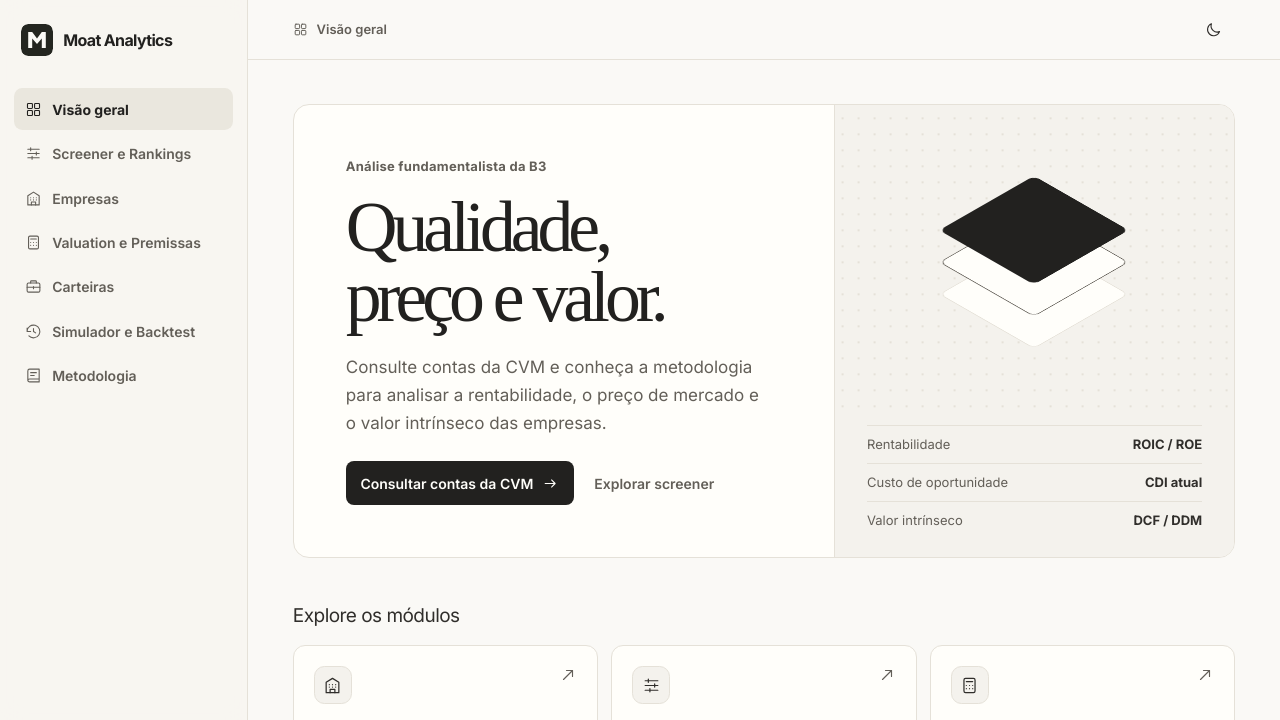
Test case: Moat Analytics › abre o screener a partir da visão geral
The width and height of the screenshot is (1280, 720).
expect the heading "Qualidade, preço e valor." is shown: met, box [346,187,664,337]
Click the link "Explorar screener" at (654, 483), box [594,475,714,492]
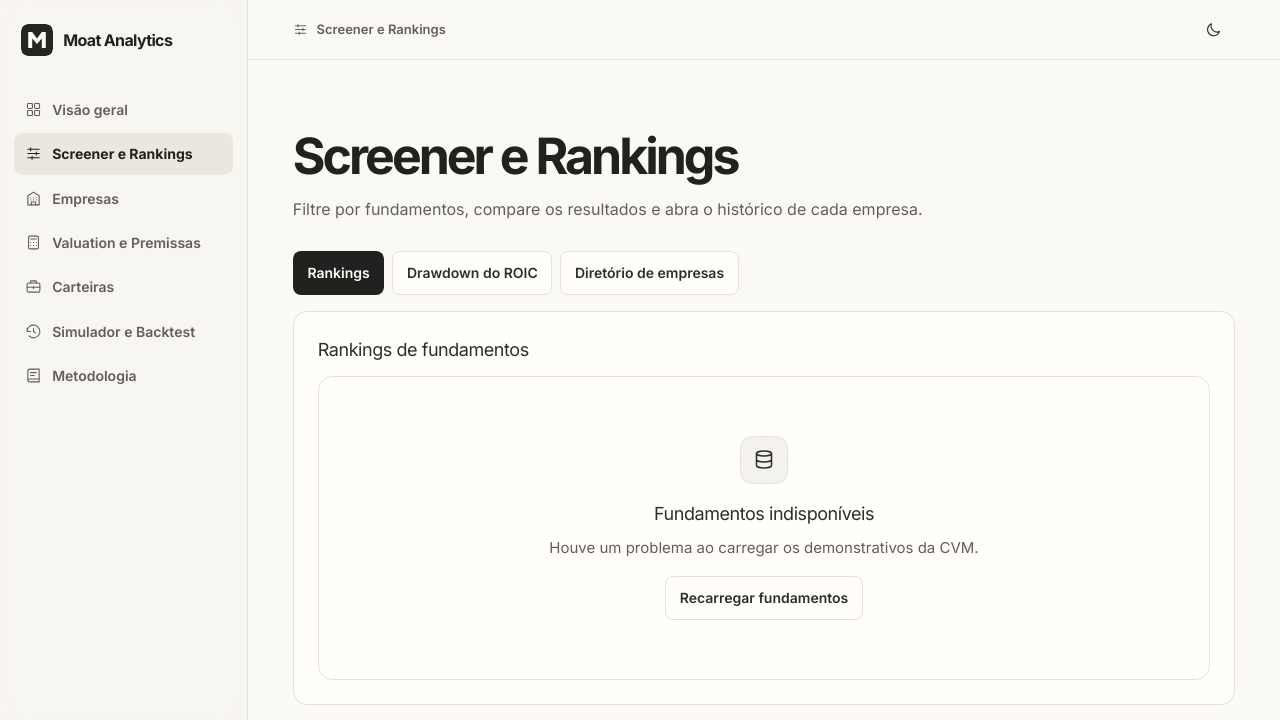
expect the heading "Screener e Rankings" is shown: met, box [293,126,737,186]
expect the heading "Rankings de fundamentos" is shown: met, box [318,338,529,360]
Click the link "Diretório de empresas" at (650, 272), box [560,250,739,294]
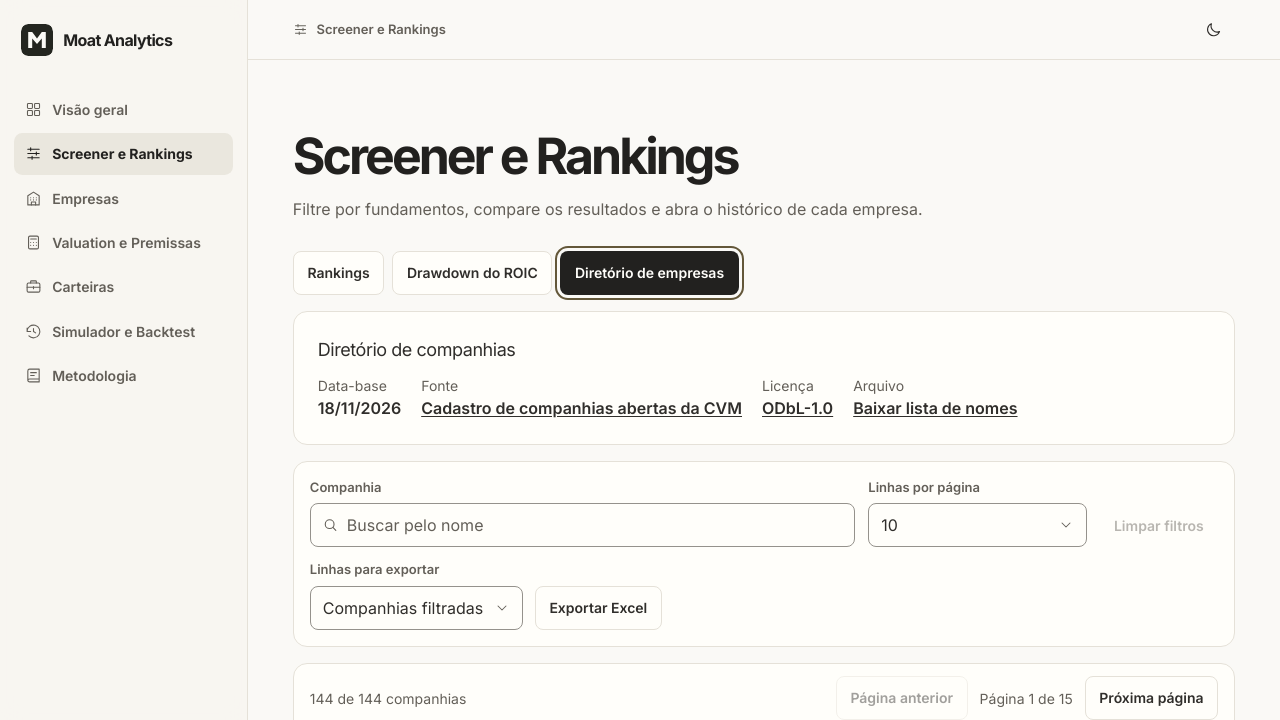
expect the heading "Diretório de companhias" is shown: met, box [318,336,515,362]
